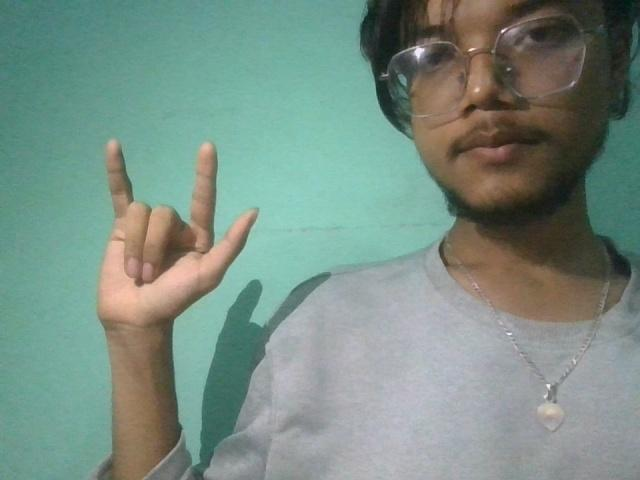I Love You: (72, 128, 275, 346)
